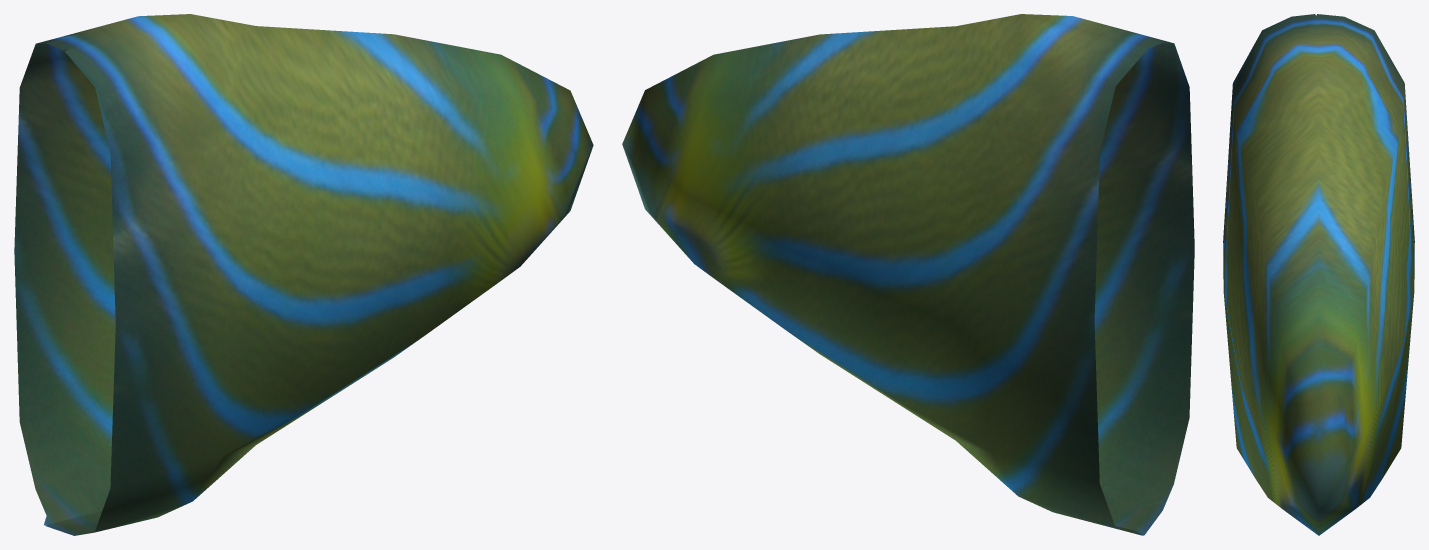
The model's file is Fish3_1_new.dae.
3 views of the same model, side by side, from view 1: azimuth 30°, elevation 25°; view 2: azimuth 150°, elevation 25°; view 3: azimuth 270°, elevation 25° (orthographic). The views are drawn at different scales.
Visible parts, largest first — view 1: Cube; view 2: Cube; view 3: Cube.
Part boxes in pixels (x1,y1,x2,y2): Cube: (14, 14, 593, 535); Cube: (622, 14, 1194, 535); Cube: (1223, 14, 1414, 535).
Bounding box in the file's own units: 2.75 × 0.8957 × 2.37.
Materials: 1 (1 with a texture image).
